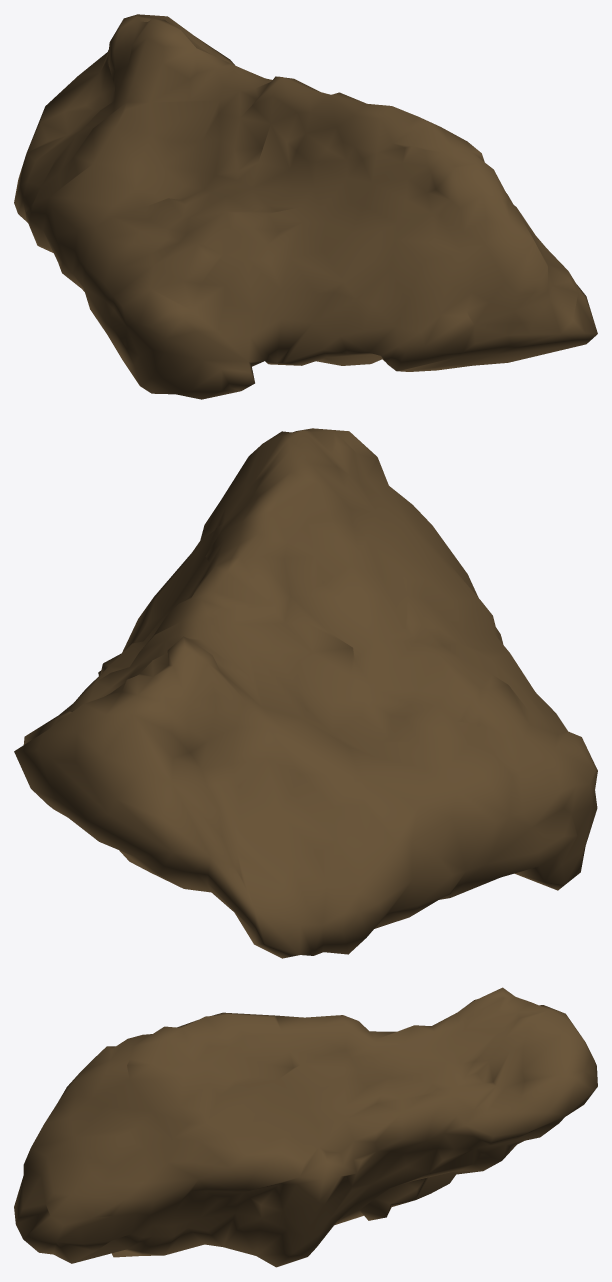
File: BoulderSlab.gltf
3 renders of one model, top to bottom at view 1: azimuth 30°, elevation 25°; view 2: azimuth 150°, elevation 25°; view 3: azimuth 270°, elevation 25°, orthographic. The views are drawn at different scales.
Parts seen in each view (by area): view 1: lo; view 2: lo; view 3: lo.
Boxes of the visible parts, <box> form: lo: <box>14,14,597,399</box>; lo: <box>14,428,597,958</box>; lo: <box>14,987,597,1267</box>.
Size of the model in its own units: 2.63 by 1.74 by 3.96.
